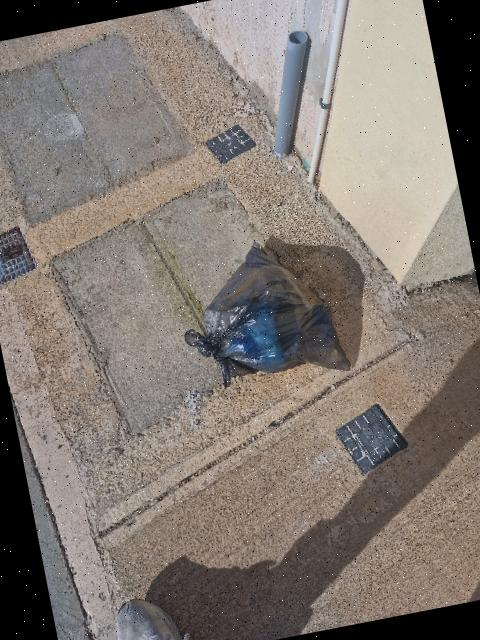Recyclable -Grey-: (185, 246, 350, 386)
